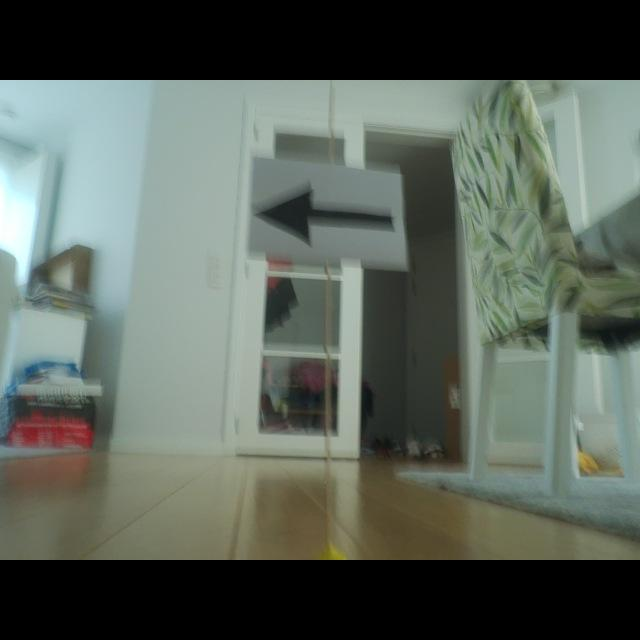balra_nyil: (256, 188, 392, 247)
